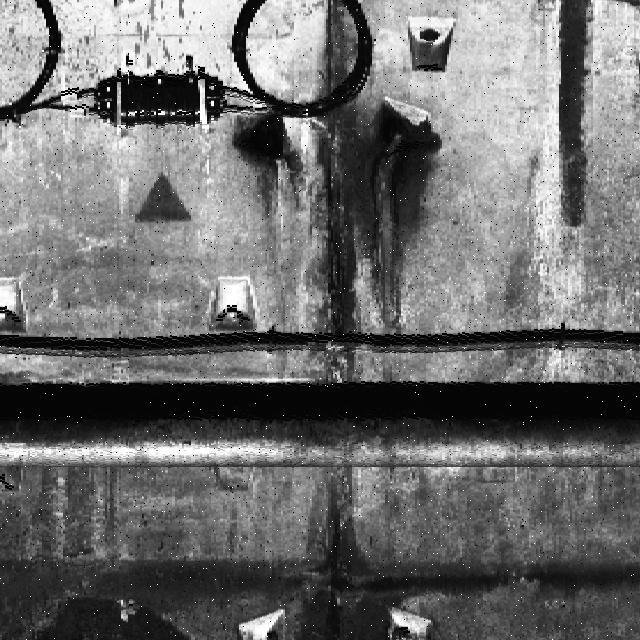leakage: (284, 443, 418, 639), (300, 0, 374, 338), (374, 133, 439, 326), (548, 0, 603, 228), (423, 550, 633, 605)
